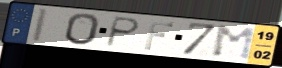7: (182, 21, 218, 57)
F: (142, 19, 176, 51)
I: (29, 6, 51, 44)
M: (211, 24, 258, 62)
O: (64, 12, 102, 46)
P: (103, 15, 142, 48)
